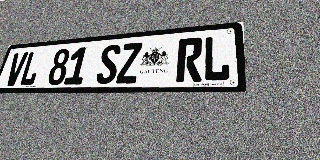1: (64, 47, 90, 85)
8: (46, 48, 72, 85)
L: (203, 35, 230, 82), (18, 51, 44, 86)
R: (176, 37, 203, 82)
S: (95, 44, 122, 84)
V: (4, 52, 29, 86)
Z: (116, 42, 142, 84)
